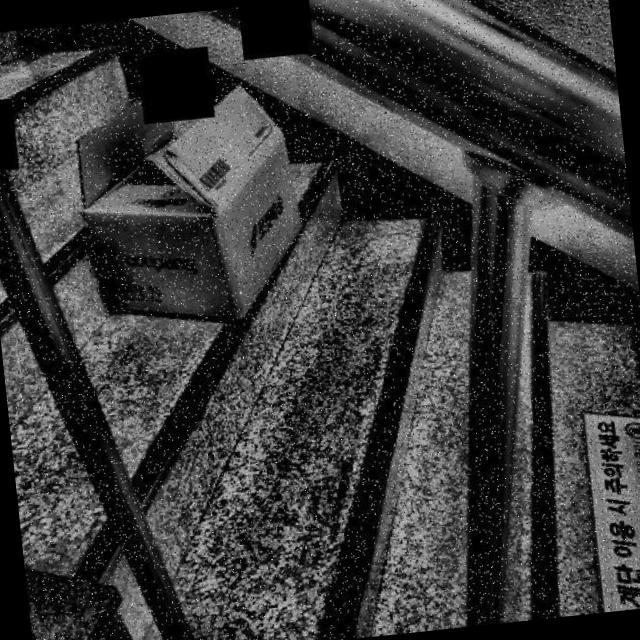box: (49, 49, 322, 343)
